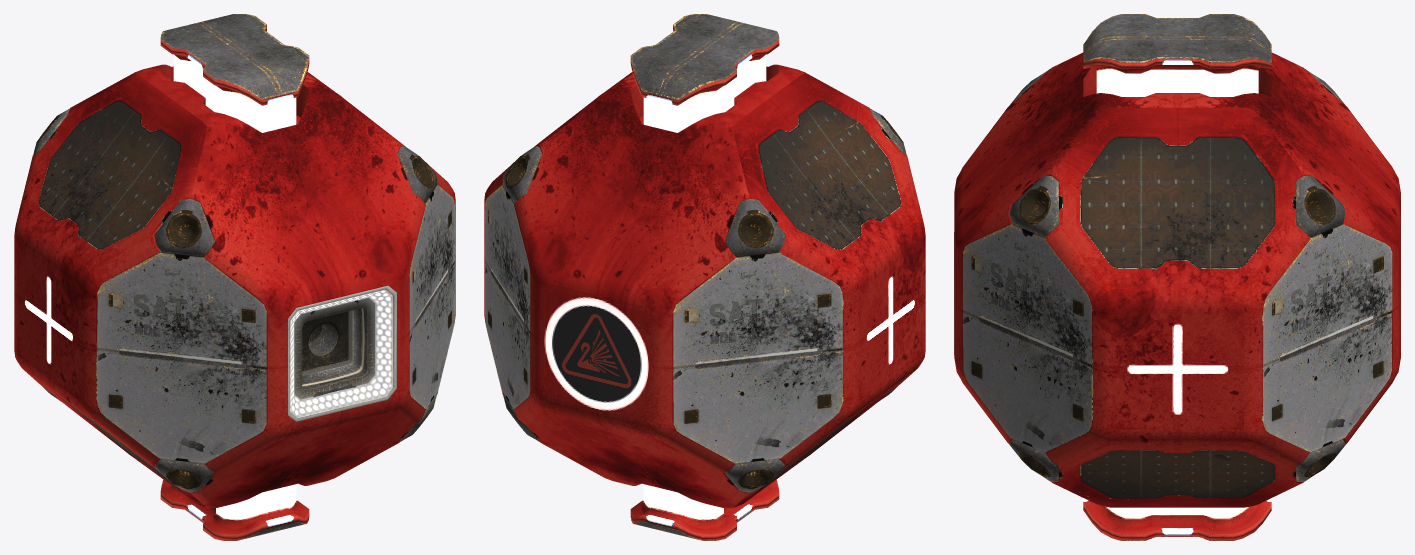
Rendered from Drone4.glb.
The picture shows the model from 3 angles, left to right: view 1: azimuth 30°, elevation 25°; view 2: azimuth 150°, elevation 25°; view 3: azimuth 270°, elevation 25°; orthographic projection. The views are drawn at different scales.
Parts seen in each view (by area): view 1: opened.001, port.002; view 2: opened.001; view 3: opened.001.
Boxes of the visible parts, x1,y1,x2,y2 form: opened.001: (14,14,455,540); port.002: (288,285,396,421); opened.001: (484,14,925,540); opened.001: (954,14,1400,540).
Bounding box in the file's own units: 0.1817 × 0.2149 × 0.1818.
Materials: 2 (2 with a texture image).
